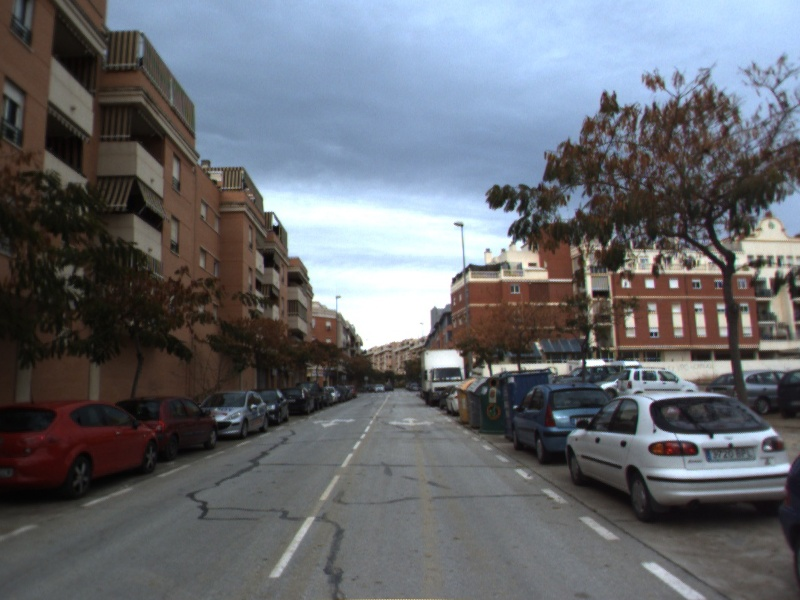STRAIGHT_LEFT_RIGHT: (386, 415, 437, 428)
